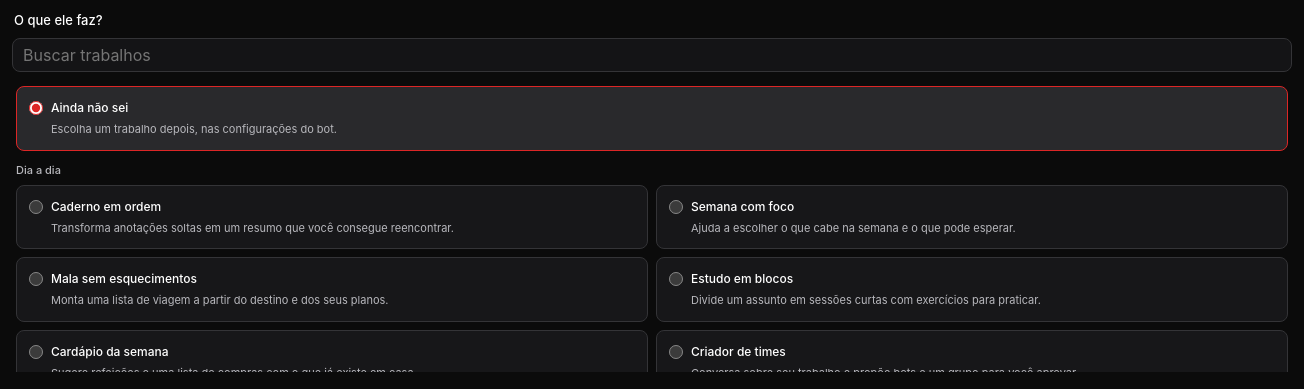
Test case: searches names, descriptions and groups without requiring accents
Expected: the radio button labelled "Ainda não sei" is checked, top-left (29, 101), bottom-right (43, 115)
Type "codigo" into the search field. click: (652, 55)
box: top-left (12, 38), bottom-right (1292, 72)
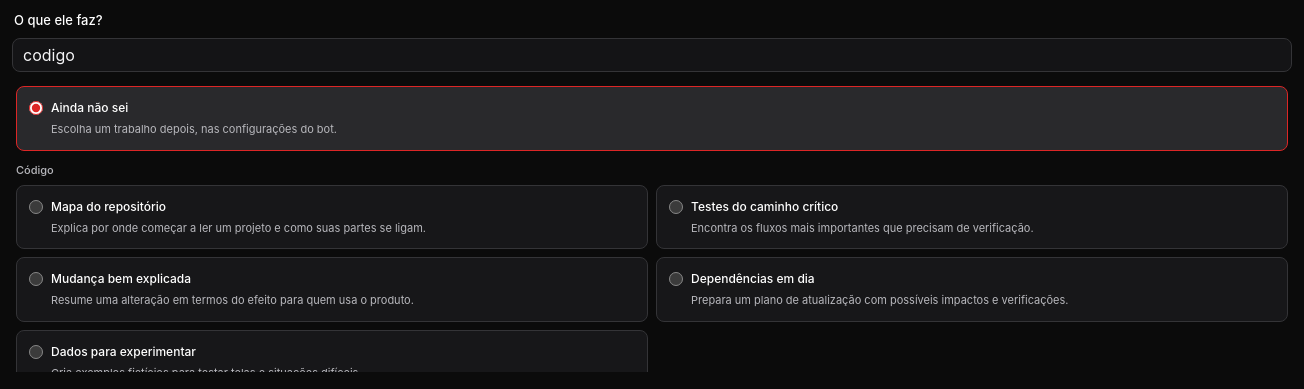
Expected: the number of radio buttons is 6, top-left (29, 101), bottom-right (43, 115); top-left (29, 200), bottom-right (43, 214); top-left (669, 200), bottom-right (683, 214); top-left (29, 272), bottom-right (43, 286); top-left (669, 272), bottom-right (683, 286); top-left (29, 344), bottom-right (43, 358)
Replace the text in the search field with "anotacoes". click: (652, 55)
box: top-left (12, 38), bottom-right (1292, 72)
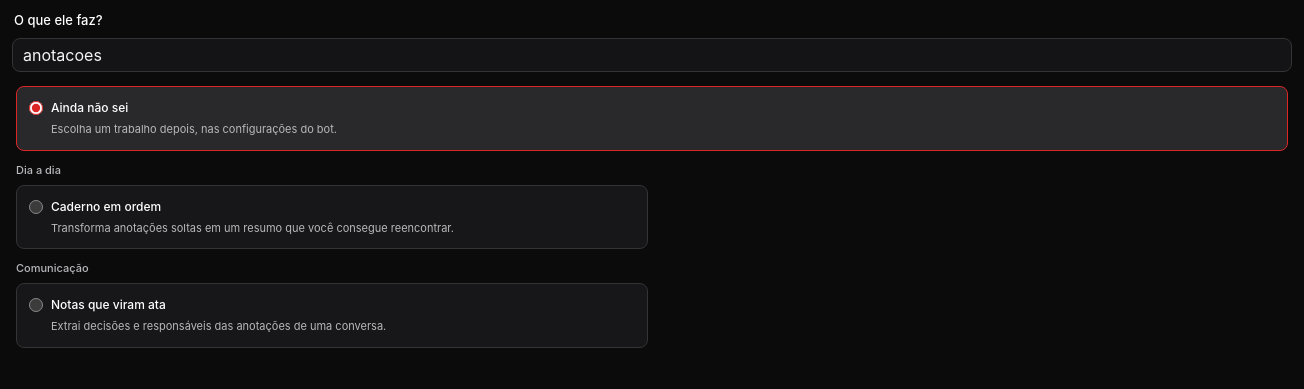
Expected: the radio button labelled "Caderno em ordem" is shown, top-left (29, 200), bottom-right (43, 214)
Replace the text in the search field with "zzzz". click: (652, 55)
box: top-left (12, 38), bottom-right (1292, 72)
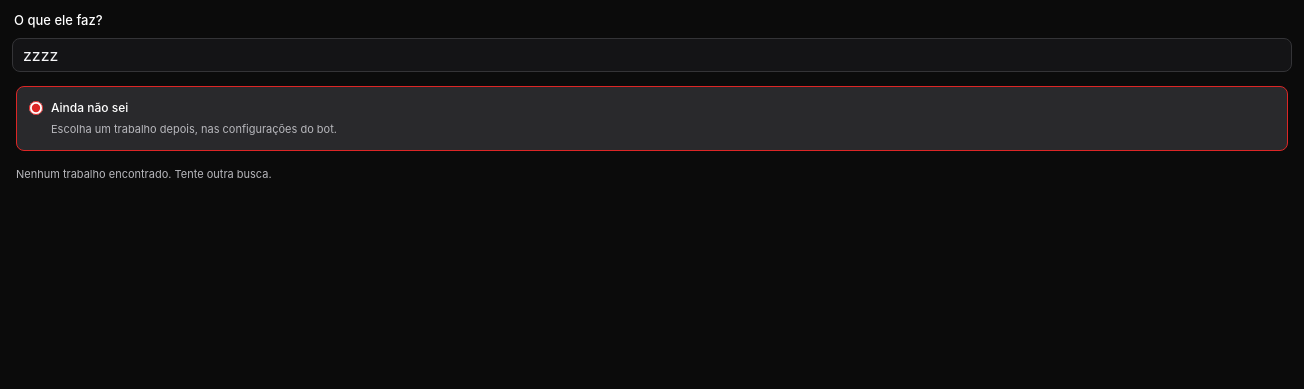
Expected: the radio button labelled "Ainda não sei" is checked, top-left (29, 101), bottom-right (43, 115)
Expected: the message shows "Nenhum trabalho encontrado", top-left (16, 166), bottom-right (272, 180)
